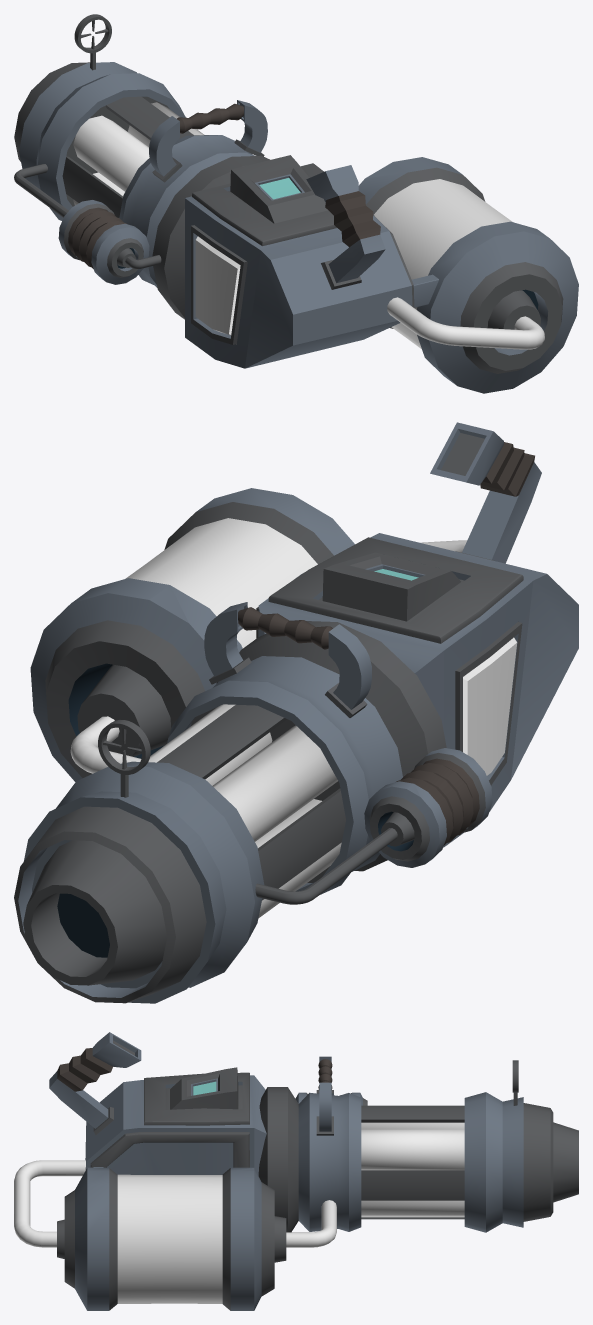
File: MinigunAndTubes.fbx
3 views of the same model, one above another, from view 1: azimuth 30°, elevation 25°; view 2: azimuth 150°, elevation 25°; view 3: azimuth 270°, elevation 25° (orthographic). The views are drawn at different scales.
Parts seen in each view (by area): view 1: Gun, GunTubes; view 2: Gun, GunTubes; view 3: Gun, GunTubes.
Part boxes in pixels (box(x1,y1,x2,y2)): Gun: box(14, 14, 578, 393); GunTubes: box(73, 102, 544, 349); Gun: box(14, 422, 578, 1003); GunTubes: box(70, 518, 517, 918); Gun: box(49, 1032, 578, 1310); GunTubes: box(14, 1122, 464, 1303).
Bounding box in the file's own units: 263 × 177 × 442.
